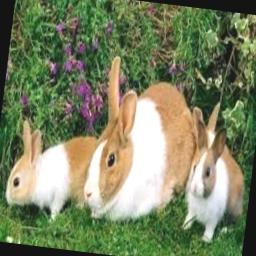rabbit: (82, 56, 194, 219), (5, 120, 96, 219), (182, 102, 243, 241)
